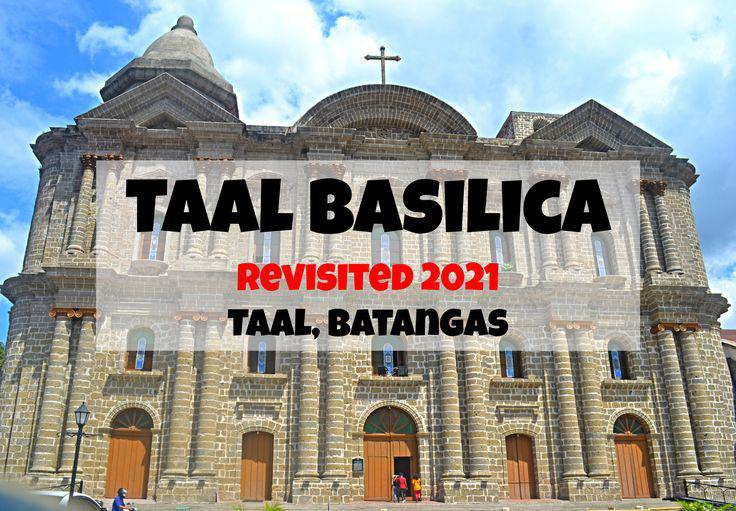taal_basilica_church_taal_batangas: (8, 12, 736, 510)
